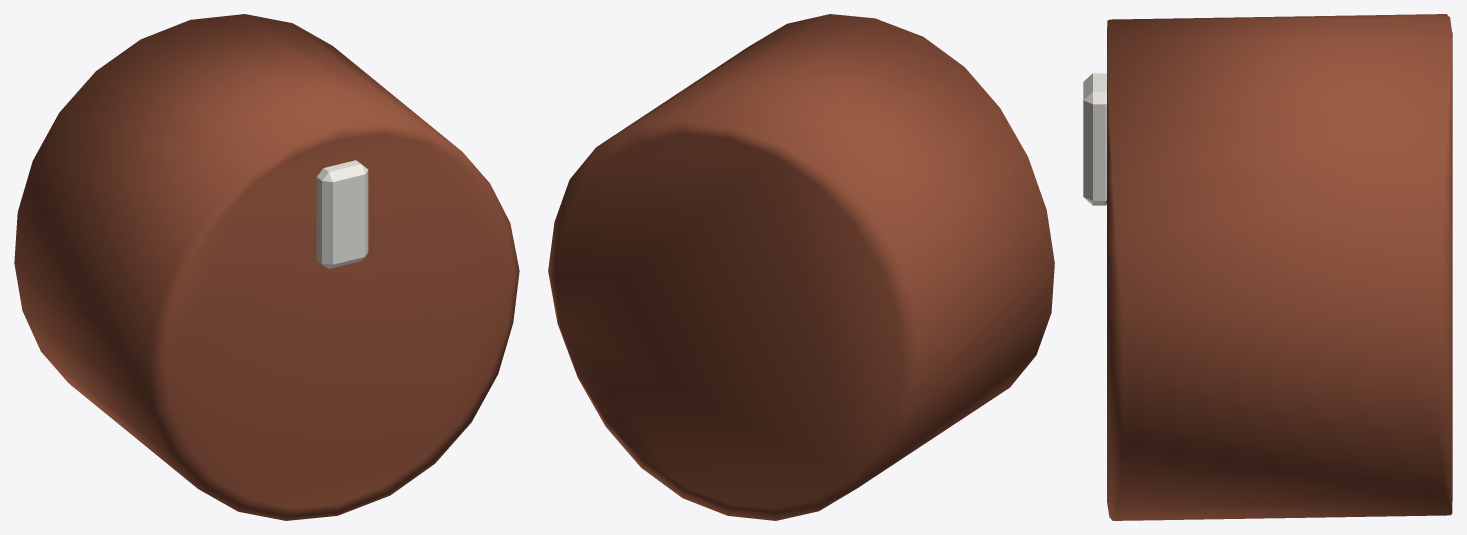
The model's file is mini_kitchen_hob_knob_2.glb.
3 views of the same model, side by side, from view 1: azimuth 30°, elevation 25°; view 2: azimuth 150°, elevation 25°; view 3: azimuth 270°, elevation 25° (orthographic). The views are drawn at different scales.
Visible parts, largest first — view 1: mini_kitchen_hob_knob_2; view 2: mini_kitchen_hob_knob_2; view 3: mini_kitchen_hob_knob_2.
Boxes of the visible parts, x1,y1,x2,y2 form: mini_kitchen_hob_knob_2: [14, 14, 519, 520]; mini_kitchen_hob_knob_2: [548, 14, 1054, 520]; mini_kitchen_hob_knob_2: [1083, 14, 1452, 520].
Bounding box in the file's own units: 0.032 × 0.032 × 0.0235.
